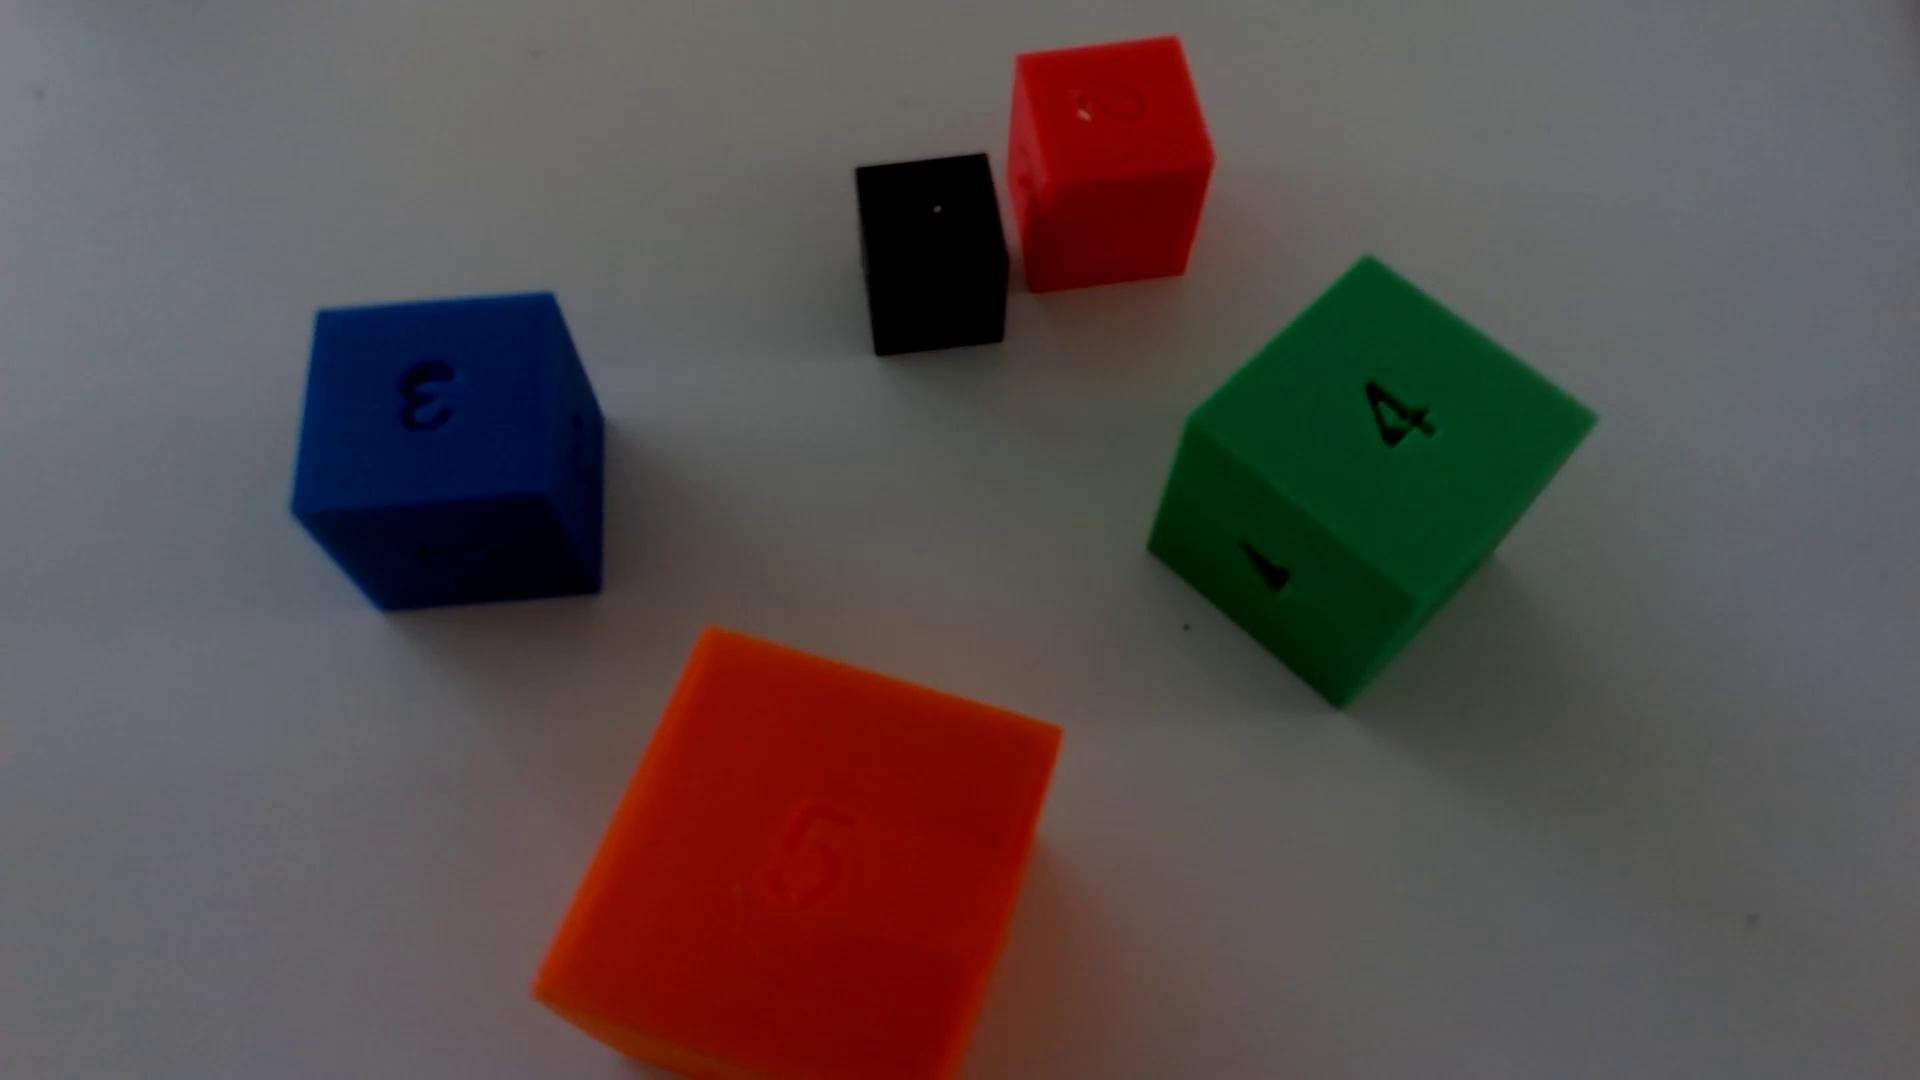black: (855, 153, 1009, 357)
blue: (291, 293, 605, 613)
green: (1149, 258, 1593, 708)
orange: (534, 630, 1060, 1080)
red: (1005, 37, 1215, 294)
